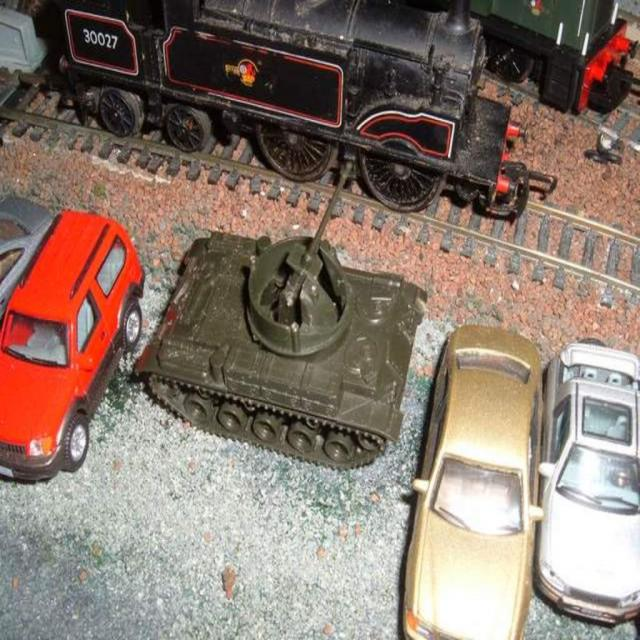tank: (132, 158, 427, 470)
